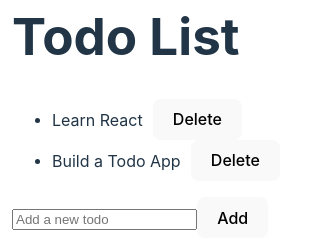
Test case: deletes a todo
Click the button "Delete" next to "Learn React": (197, 119) [153,99,242,140]
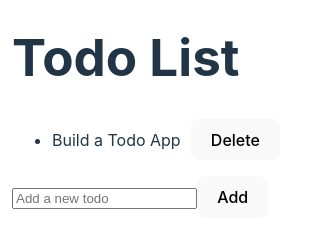
Expected: the list item "Learn React" is gone
